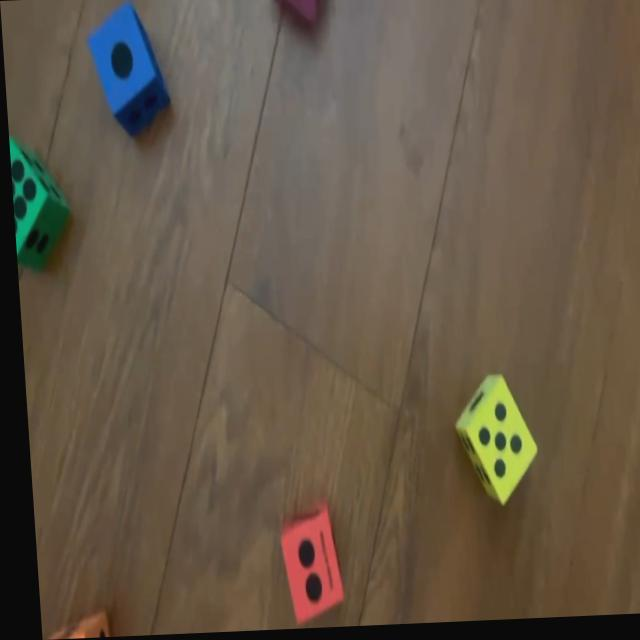cube: (87, 0, 167, 136), (7, 133, 65, 269), (273, 505, 337, 625)
